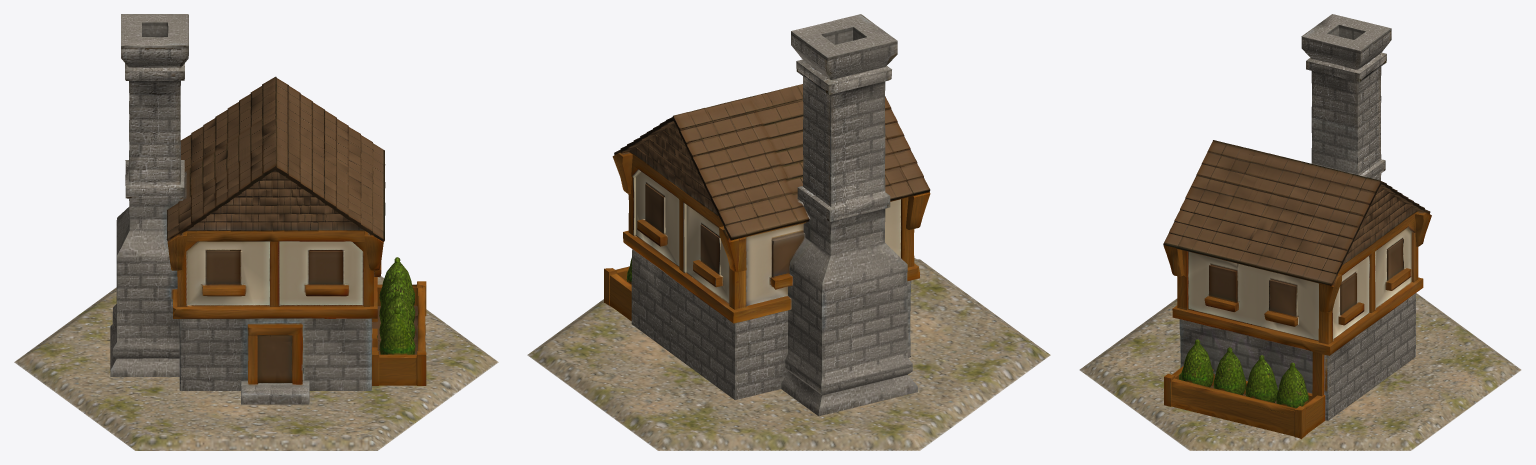
File: hearth.glb
The picture shows the model from 3 angles, left to right: view 1: azimuth 30°, elevation 25°; view 2: azimuth 150°, elevation 25°; view 3: azimuth 270°, elevation 25°; orthographic projection. The views are drawn at different scales.
Visible parts, largest first — view 1: architecture, ground; view 2: architecture, ground; view 3: architecture, ground.
Part boxes in pixels (x1,y1,x2,y2): architecture: (110, 14, 426, 404); ground: (14, 276, 498, 450); architecture: (604, 14, 930, 416); ground: (527, 258, 1050, 450); architecture: (1163, 14, 1431, 439); ground: (1079, 293, 1521, 450).
Bounding box in the file's own units: 1.59 × 1.39 × 1.84.
2 materials, 2 textured.
